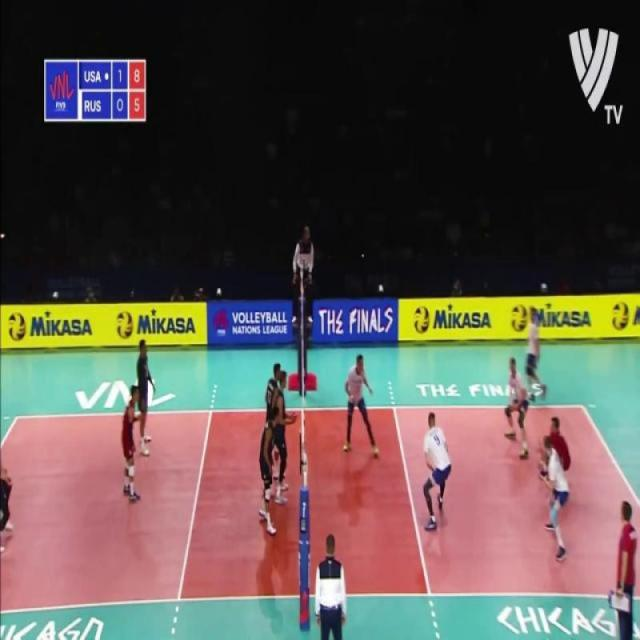volleyball: (509, 303, 528, 334), (610, 302, 630, 331), (8, 312, 26, 343), (413, 304, 431, 335), (118, 309, 134, 339)
